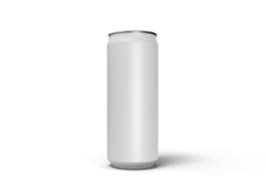can: (106, 32, 159, 171)
